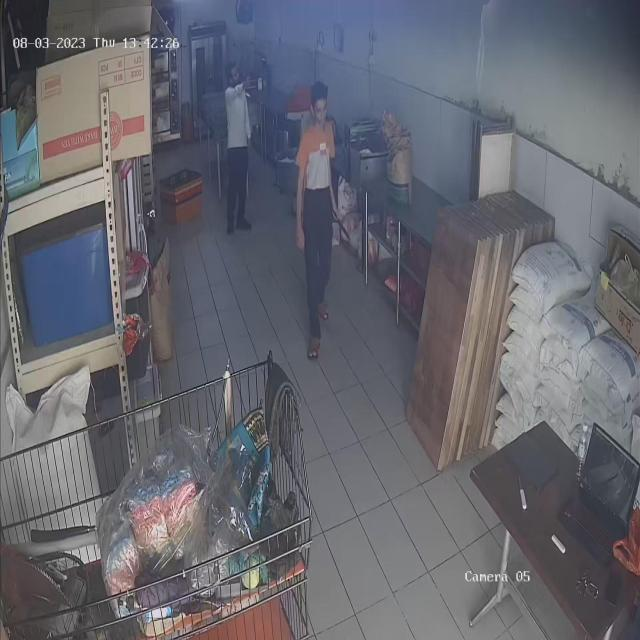Knife: (326, 207, 362, 246)
